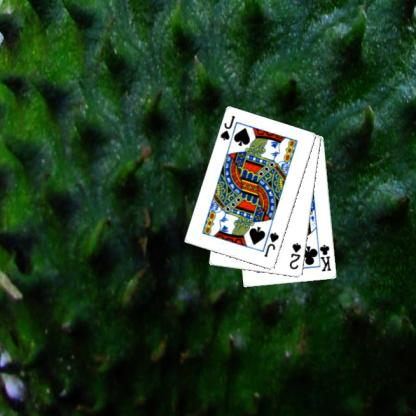2S: (287, 240, 303, 271)
JS: (261, 230, 280, 258), (218, 113, 236, 142)
KC: (314, 240, 333, 272)
